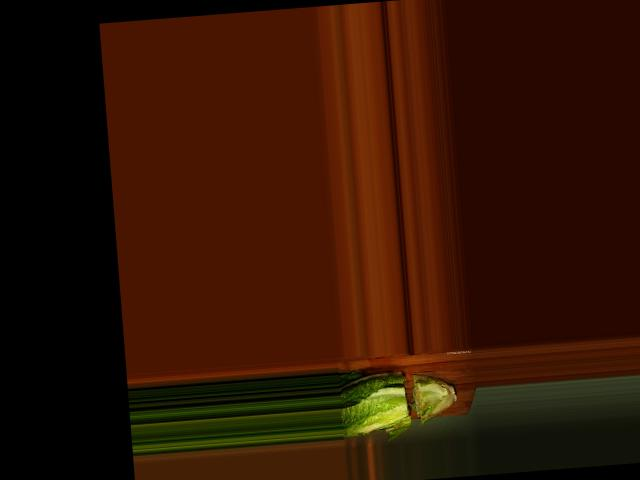lettuce: (339, 359, 458, 441)
